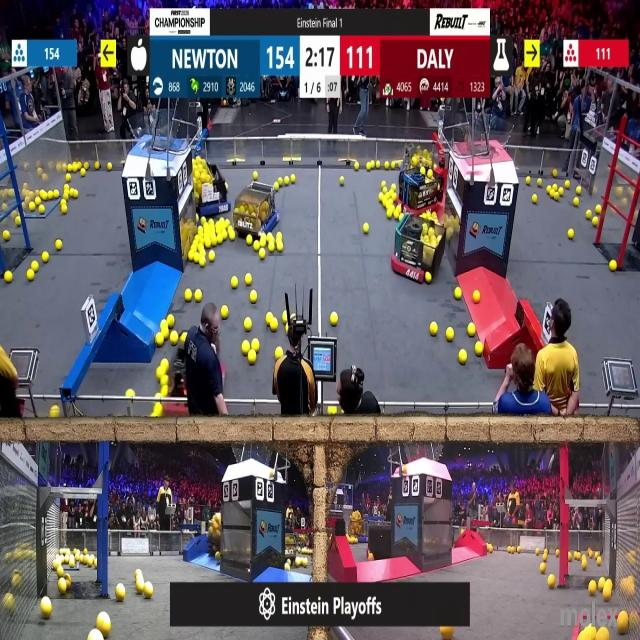ball_ground: (153, 404, 162, 418), (460, 350, 468, 364), (171, 333, 179, 346), (330, 312, 337, 326), (454, 288, 462, 300), (194, 289, 202, 301), (276, 347, 284, 359), (168, 315, 175, 328), (447, 327, 454, 340), (220, 306, 227, 319), (4, 273, 12, 284), (250, 290, 257, 302), (28, 271, 36, 281), (232, 277, 238, 289), (609, 262, 616, 272), (42, 252, 49, 262), (426, 273, 432, 284), (57, 240, 63, 251), (246, 275, 252, 286), (200, 258, 207, 267), (209, 250, 215, 260), (32, 262, 38, 272), (593, 216, 599, 226), (59, 566, 65, 576), (4, 232, 10, 242), (14, 217, 20, 226), (363, 223, 369, 232), (568, 230, 573, 240), (596, 206, 602, 213), (536, 178, 541, 186), (488, 543, 493, 551), (40, 205, 44, 214), (368, 554, 372, 562), (567, 184, 570, 190)
goal: (460, 117, 515, 158), (129, 118, 187, 153)
robot_blue: (233, 182, 280, 238), (193, 160, 229, 217), (347, 516, 367, 544)
robot_red: (394, 216, 445, 283), (398, 143, 444, 215)
